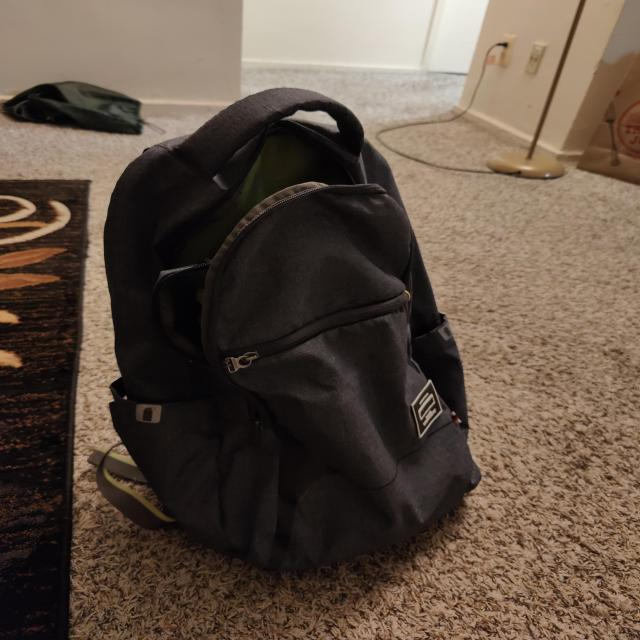bag: (118, 94, 482, 568)
